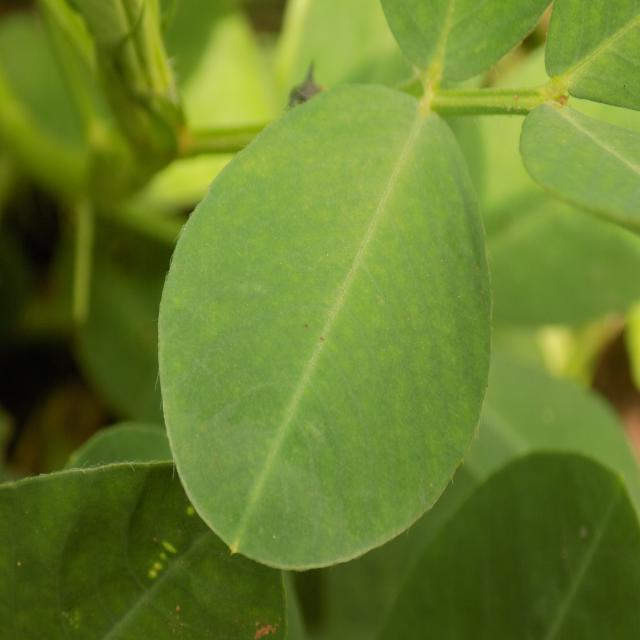Ground nut_healthy: (159, 85, 493, 572)
